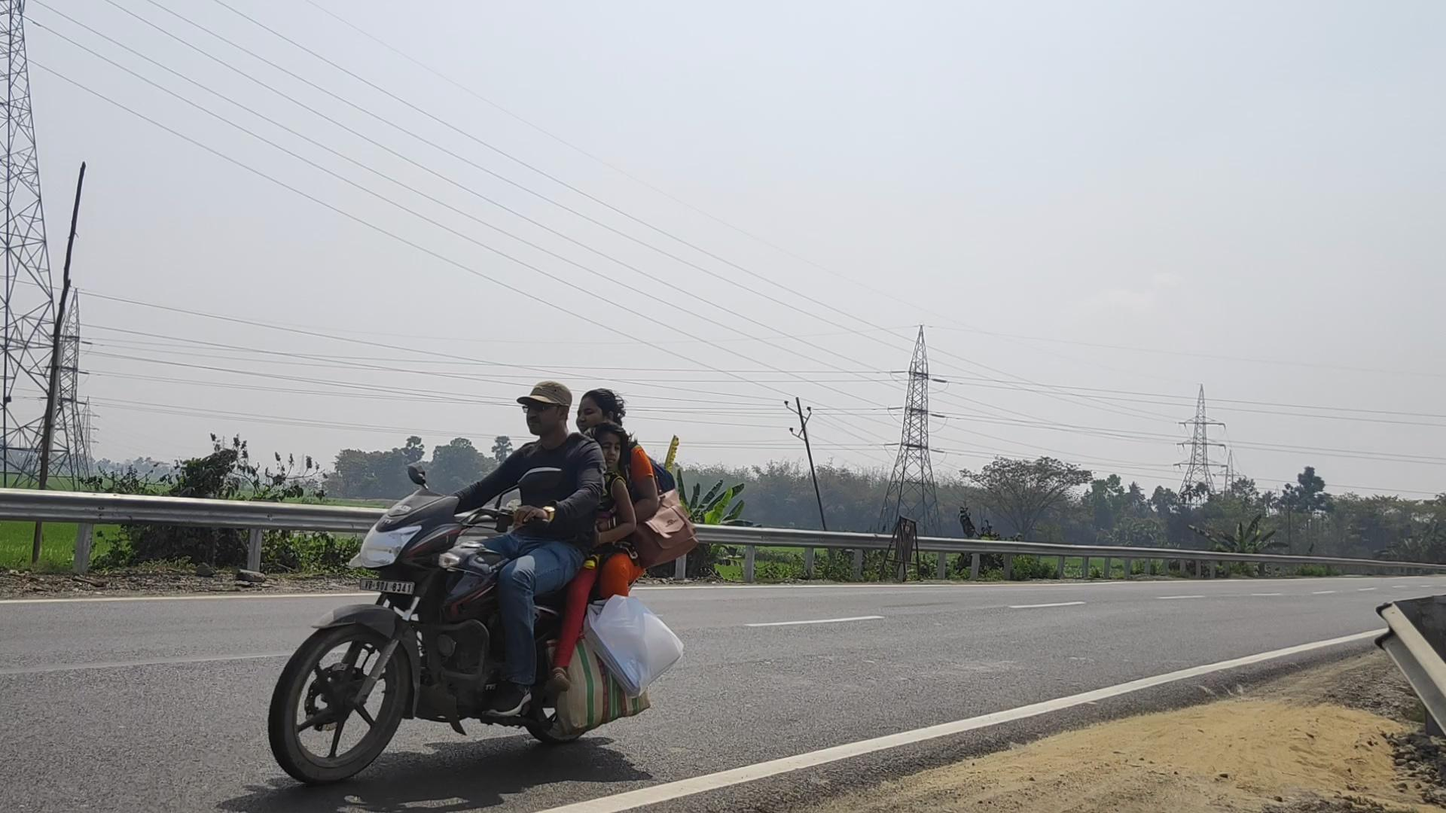bike: (269, 381, 698, 785)
